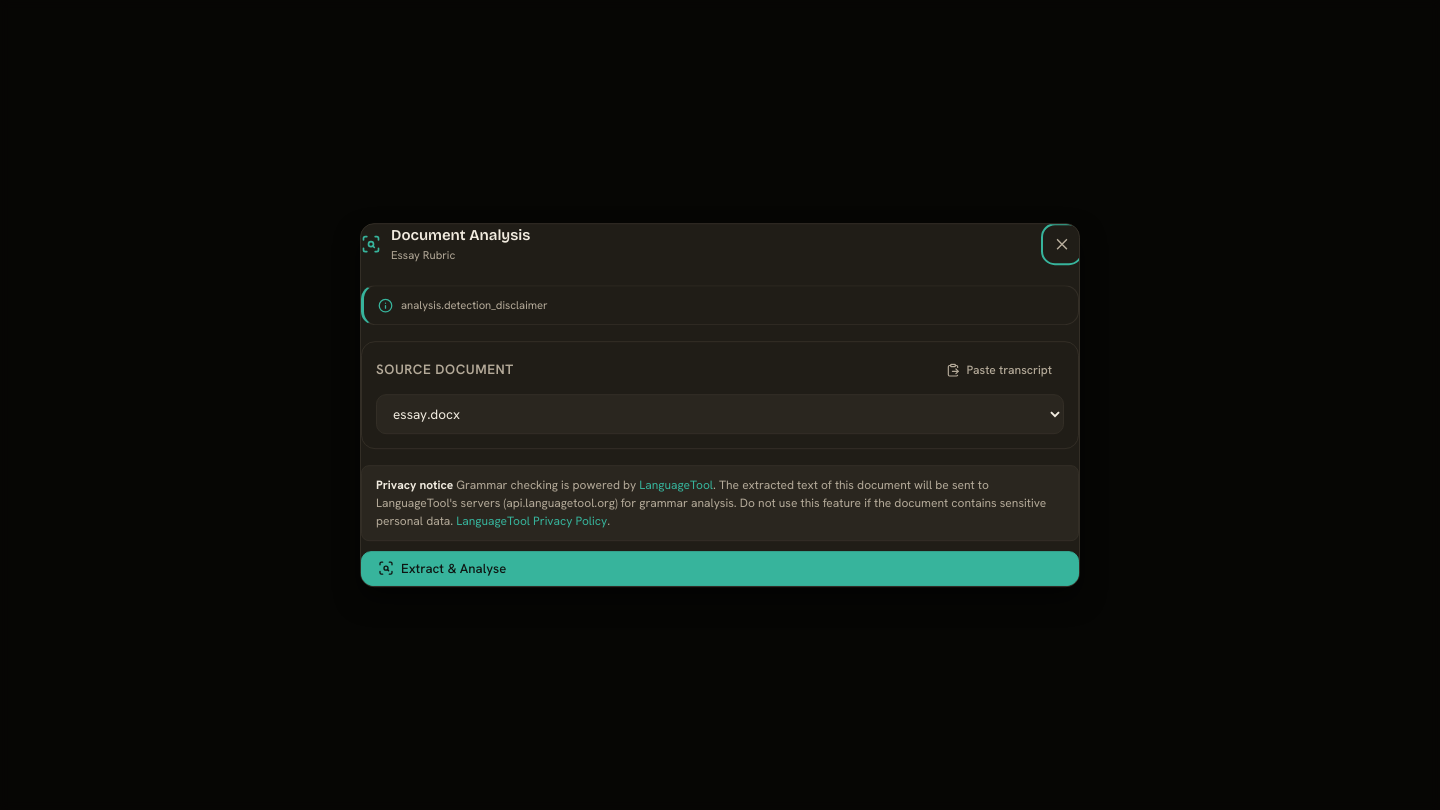
Test case: DocumentAnalysisPanel › runs the analysis pipeline for an attachment and shows results
This screenshot has width=1440, height=810.
Click the button "Extract & Analyse": (454, 568) [361,551,1079,586]
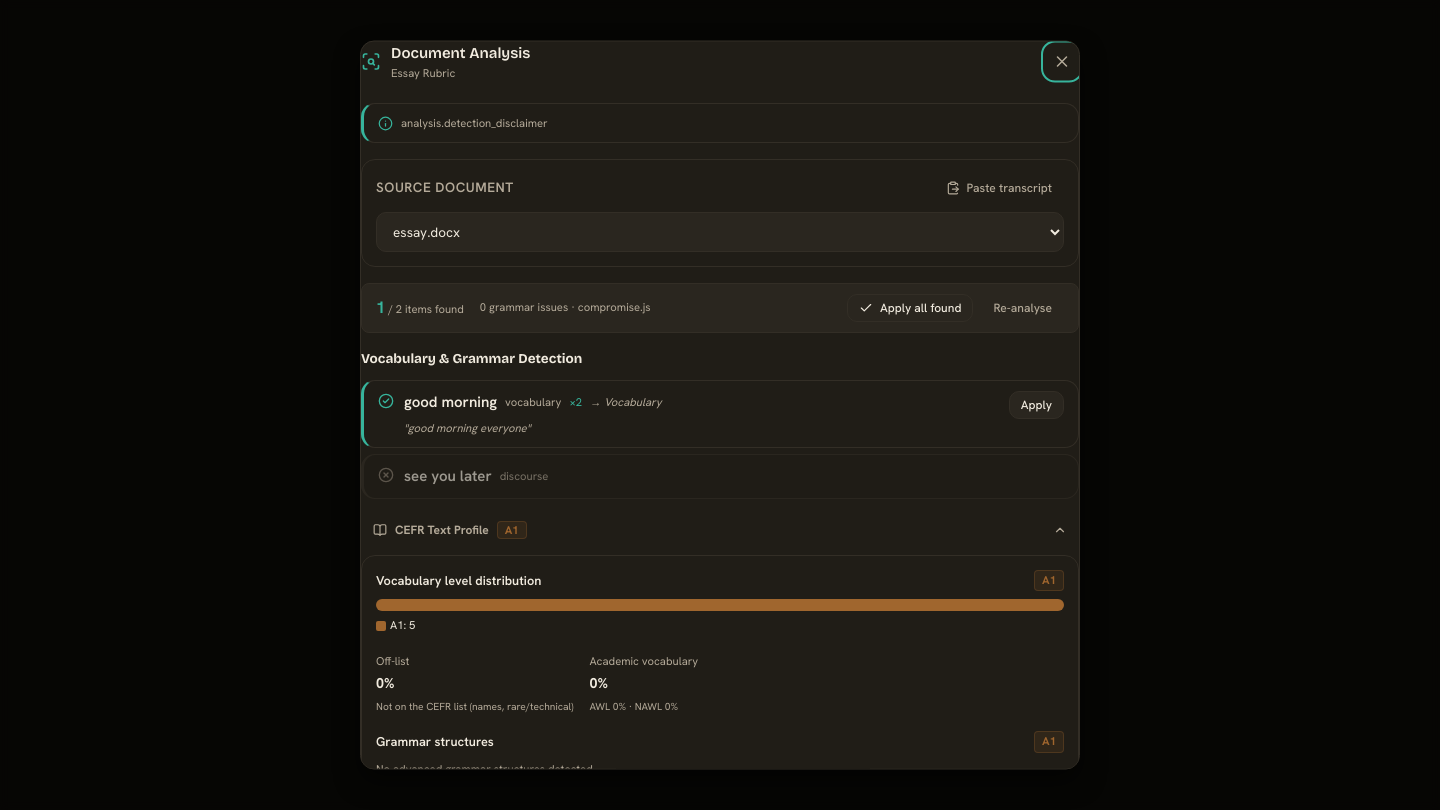
Check: the text "/ 2 items found" is shown, box [385,301,464,315]
Check: the text "1" is shown, box [376,295,385,317]
Check: the text "good morning" is shown, box [404,390,497,413]
